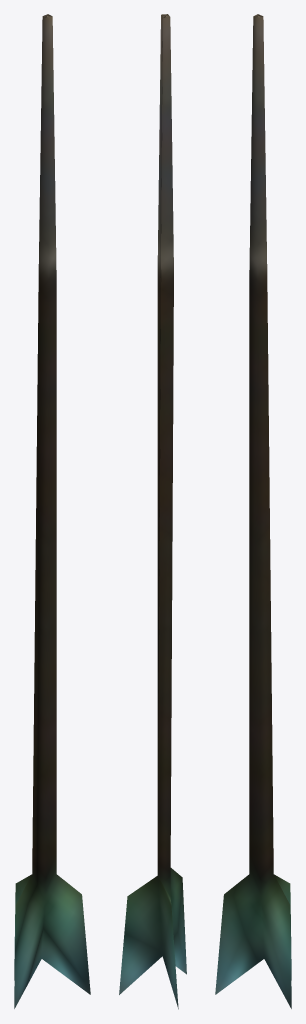
The model's file is tricksterArrowR.glb.
3 renders of one model, left to right at view 1: azimuth 90°, elevation 25°; view 2: azimuth 150°, elevation 25°; view 3: azimuth 270°, elevation 25°, orthographic.
Visible parts, largest first — view 1: tricksterArrowR; view 2: tricksterArrowR; view 3: tricksterArrowR.
Boxes of the visible parts, x1,y1,x2,y2 form: tricksterArrowR: [14, 14, 90, 1008]; tricksterArrowR: [119, 14, 186, 1009]; tricksterArrowR: [215, 14, 291, 1008].
Size of the model in its own units: 0.0745 by 1.16 by 0.0826.
1 material, 1 textured.
